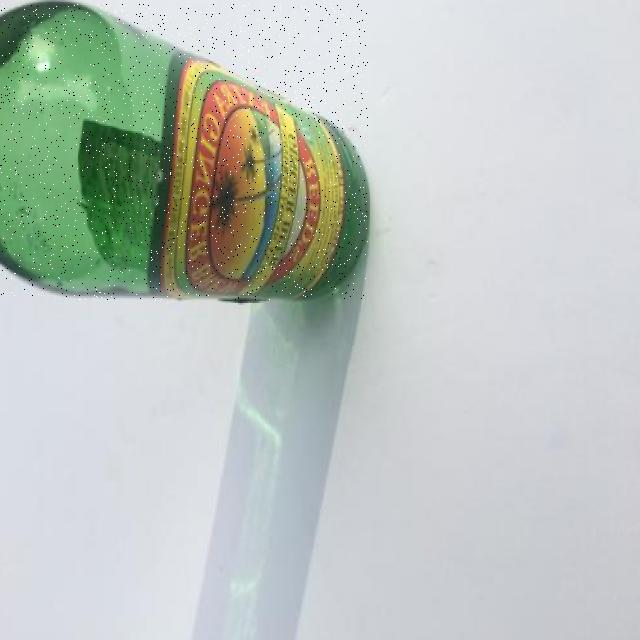glass: (0, 4, 368, 299)
